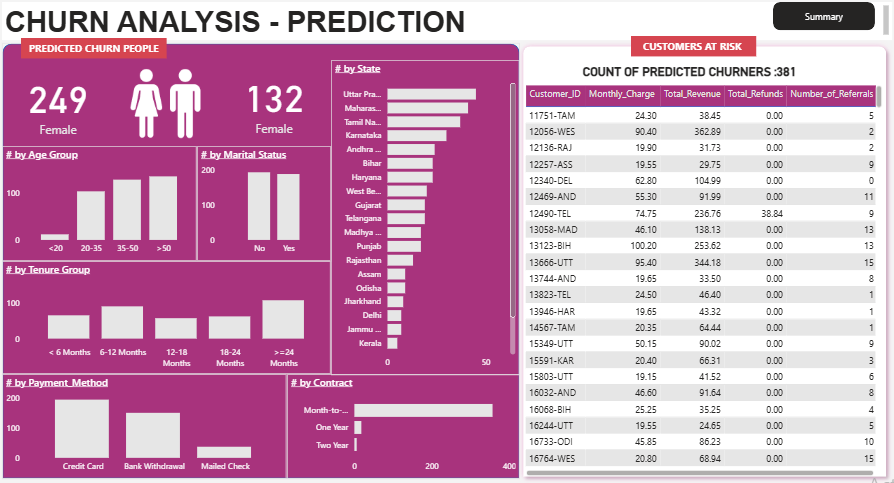

Layout of this report page (visuals, bound fields, positions):
{"tool":"powerbi","page":{"name":"Churn Prediction","canvas":[1327,720],"ordinal":2},"visuals":[{"type":"textbox","box":[10.3,13.2,1307.8,55.8],"z":0},{"type":"shape","box":[10.3,73.5,761.1,640.7],"z":1000},{"type":"card","fields":{"Values":["tbi_measure.Count Predicted Churner"]},"box":[326.2,93.4,167.5,132],"z":2000},{"type":"card","fields":{"Values":["tbi_measure.Count Predicted Churner"]},"box":[10.4,94.9,164.6,132],"z":3000},{"type":"clusteredBarChart","fields":{"Y":["CountNonNull(Predictions.Customer_ID)"],"Category":["Predictions.State"]},"box":[493.7,97.9,277.3,462.6],"z":4000},{"type":"clusteredColumnChart","fields":{"Category":["mapping_AgeGrp.Age Group"],"Y":["CountNonNull(Predictions.Customer_ID)"]},"box":[10.4,225.4,286.2,169],"z":5000},{"type":"clusteredColumnChart","fields":{"Y":["CountNonNull(Predictions.Customer_ID)"],"Category":["Predictions.Married"]},"box":[296.5,225.4,197.2,169],"z":6000},{"type":"clusteredColumnChart","fields":{"Y":["CountNonNull(Predictions.Customer_ID)"],"Category":["mapping_TenureGrp.Tenure Group "]},"box":[10.4,394.4,483.4,166.1],"z":7000},{"type":"clusteredColumnChart","fields":{"Y":["CountNonNull(Predictions.Customer_ID)"],"Category":["Predictions.Payment_Method"]},"box":[10.4,560.5,418.1,154.2],"z":8000},{"type":"clusteredBarChart","fields":{"Category":["Predictions.Contract"],"Y":["CountNonNull(Predictions.Customer_ID)"]},"box":[428.5,560.5,342.5,154.2],"z":9000},{"type":"shape","box":[766.5,69.7,551.6,650.9],"z":10000},{"type":"card","fields":{"Values":["tbi_measure.Title Predicted Churner"]},"box":[849.3,98.4,338,35.3],"z":11000},{"type":"tableEx","fields":{"Values":["Predictions.Customer_ID","Predictions.Monthly_Charge","Predictions.Total_Revenue","Predictions.Total_Refunds","Predictions.Number_of_Referrals"]},"box":[774,130.5,533.8,584.2],"z":12000},{"type":"image","box":[175,96.4,151.2,129],"z":13000},{"type":"textbox","box":[38.5,66.7,214,30],"z":14000},{"type":"textbox","box":[934.1,63.8,183.9,29.7],"z":15000},{"type":"shape","box":[1143.1,13.3,149.8,41.5],"z":16000}]}

Visuals, with their boxes in screenshot pixels (x1, y1, x2, y2), scaled from the page's 1327x720 canvas onto the 894x483 screenshot:
textbox: 7, 9, 888, 46
shape: 7, 49, 520, 479
card - tbi_measure.Count Predicted Churner: 220, 63, 333, 151
card - tbi_measure.Count Predicted Churner: 7, 64, 118, 152
clusteredBarChart - CountNonNull(Predictions.Customer_ID) x Predictions.State: 333, 66, 519, 376
clusteredColumnChart - mapping_AgeGrp.Age Group x CountNonNull(Predictions.Customer_ID): 7, 151, 200, 265
clusteredColumnChart - CountNonNull(Predictions.Customer_ID) x Predictions.Married: 200, 151, 333, 265
clusteredColumnChart - CountNonNull(Predictions.Customer_ID) x mapping_TenureGrp.Tenure Group : 7, 265, 333, 376
clusteredColumnChart - CountNonNull(Predictions.Customer_ID) x Predictions.Payment_Method: 7, 376, 289, 479
clusteredBarChart - Predictions.Contract x CountNonNull(Predictions.Customer_ID): 289, 376, 519, 479
shape: 516, 47, 888, 482
card - tbi_measure.Title Predicted Churner: 572, 66, 800, 90
tableEx - Predictions.Customer_ID x Predictions.Monthly_Charge: 521, 88, 881, 479
image: 118, 65, 220, 151
textbox: 26, 45, 170, 65
textbox: 629, 43, 753, 63
shape: 770, 9, 871, 37
